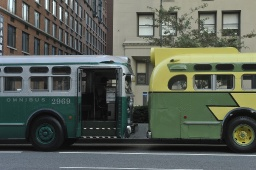bus: (1, 53, 138, 149), (142, 43, 256, 153)
